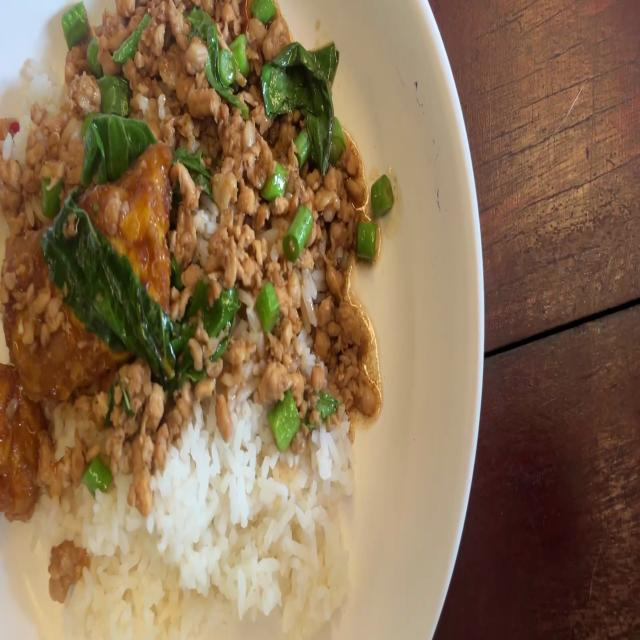01rice: (89, 420, 352, 624)
fried_tofo: (16, 159, 163, 386), (0, 359, 39, 518)
minced_pork: (173, 155, 381, 416), (31, 0, 360, 159)
stir_fried_basil: (0, 0, 380, 618)
